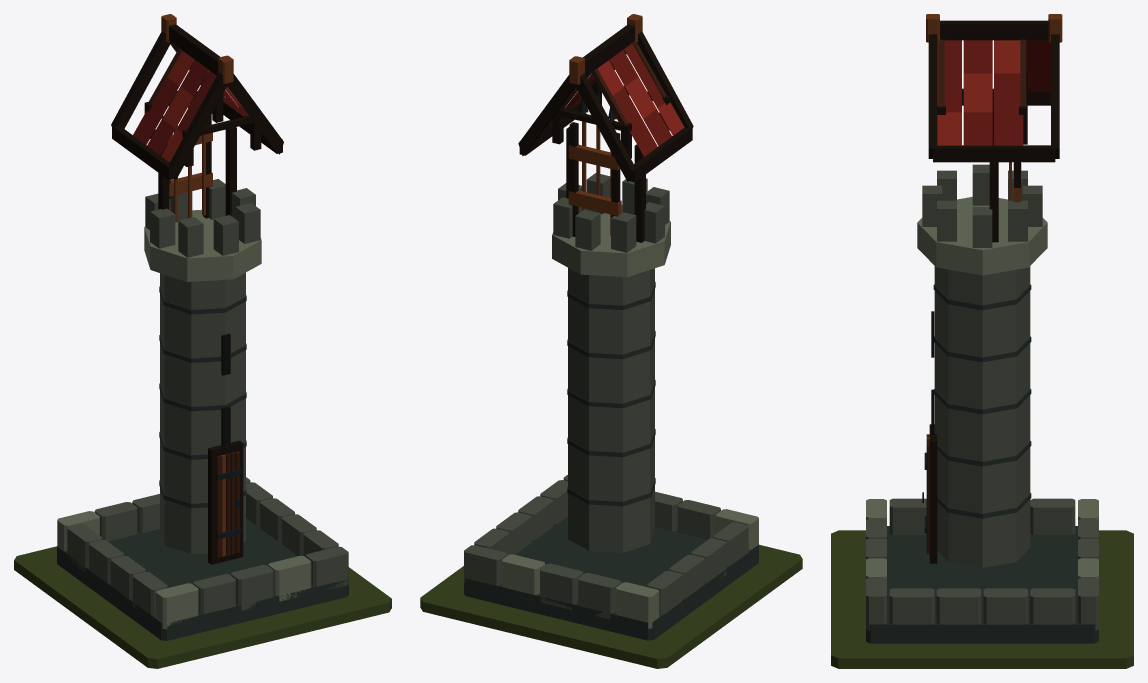
File: archer_tower_t2.glb
3 renders of one model, left to right at view 1: azimuth 30°, elevation 25°; view 2: azimuth 150°, elevation 25°; view 3: azimuth 270°, elevation 25°, orthographic. The views are drawn at different scales.
Visible parts, largest first — view 1: MMR | archer_tower | T02 Architecture.001, MMR | archer_tower | Tier 02 Ground.001, MMR | archer_tower | T02 Roof Supports.001; view 2: MMR | archer_tower | T02 Architecture.001, MMR | archer_tower | Tier 02 Ground.001, MMR | archer_tower | T02 Roof Supports.001; view 3: MMR | archer_tower | T02 Architecture.001, MMR | archer_tower | Tier 02 Ground.001, MMR | archer_tower | T02 Roof Supports.001.
Part boxes in pixels (box(x1,y1,x2,y2)): MMR | archer_tower | T02 Architecture.001: box(57, 14, 348, 640); MMR | archer_tower | Tier 02 Ground.001: box(14, 546, 391, 668); MMR | archer_tower | T02 Roof Supports.001: box(144, 48, 261, 166); MMR | archer_tower | T02 Architecture.001: box(464, 14, 758, 640); MMR | archer_tower | Tier 02 Ground.001: box(420, 544, 802, 668); MMR | archer_tower | T02 Roof Supports.001: box(552, 41, 670, 158); MMR | archer_tower | T02 Architecture.001: box(866, 14, 1098, 643); MMR | archer_tower | Tier 02 Ground.001: box(831, 530, 1133, 668); MMR | archer_tower | T02 Roof Supports.001: box(937, 39, 1027, 144).
Bounding box in the file's own units: 1.3 × 2.78 × 1.3.
1 material, 1 textured.
